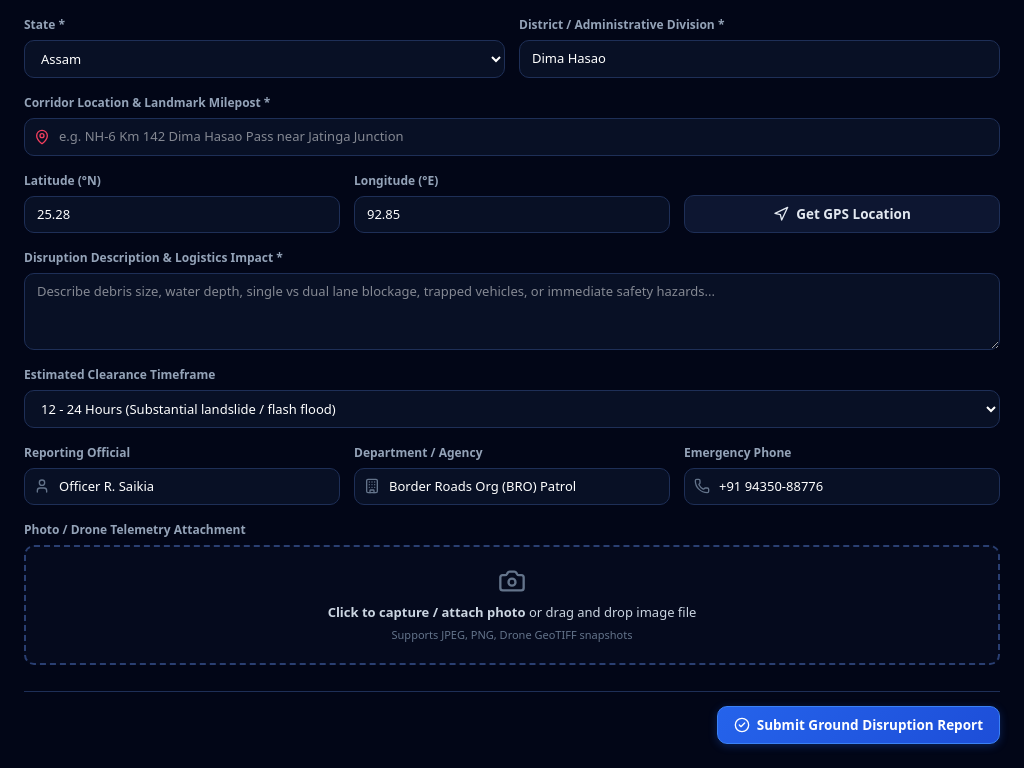
Scenario: FieldReportForm › shows error if required fields are missing
(page scrolled)
Submit without filling anything
Click the button "Submit Ground Disruption Report" at (858,725), box [717,706,1000,744]
(page scrolled)
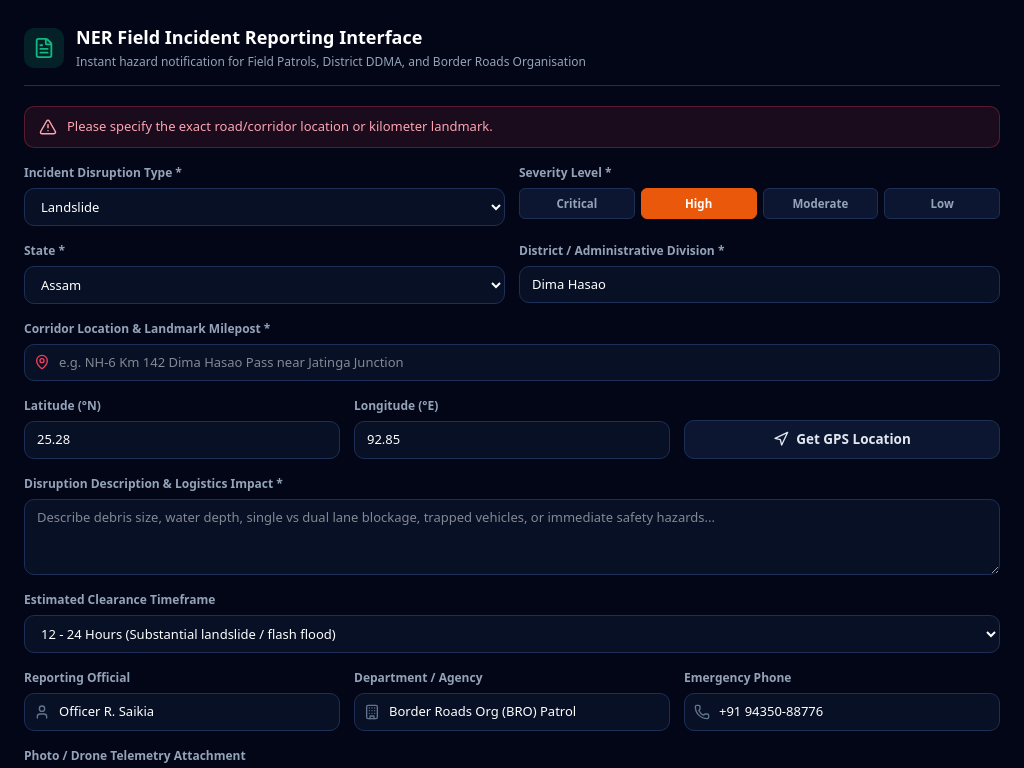
Now the text "Please specify the exact road" is shown, box [67,117,493,135]
